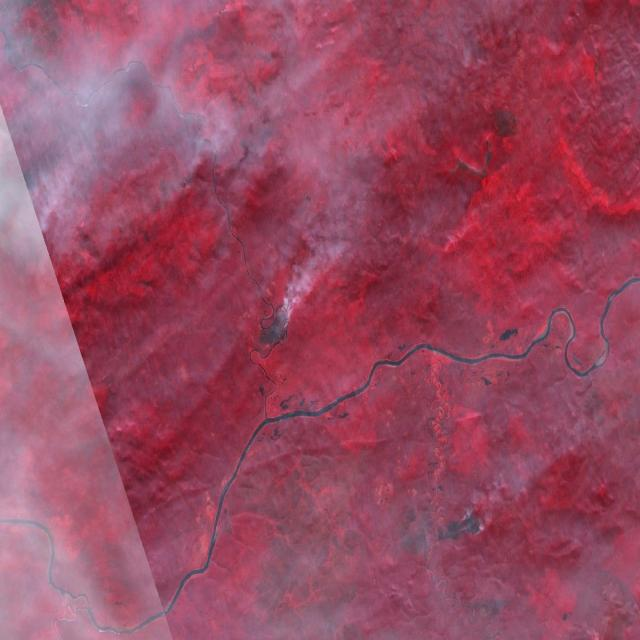fire: (254, 295, 294, 356)
